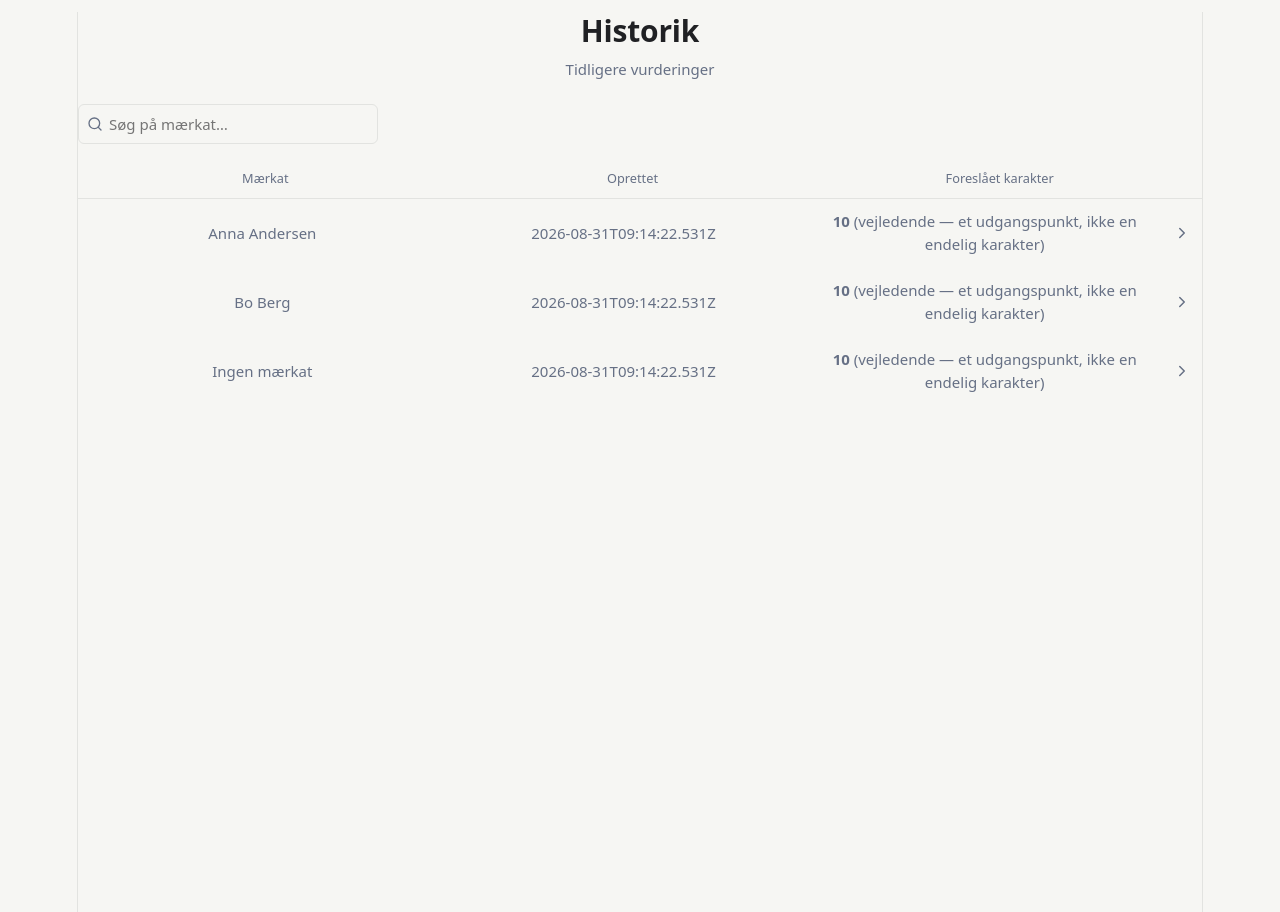
HistoryPage › search by Label › excludes rows with no saved Label when a search term is typed
Expected: the number of list items is 3, [78,199,1202,268]; [78,268,1202,337]; [78,337,1202,406]
In the search field: x=228, y=124 [78,104,378,144], type "b"
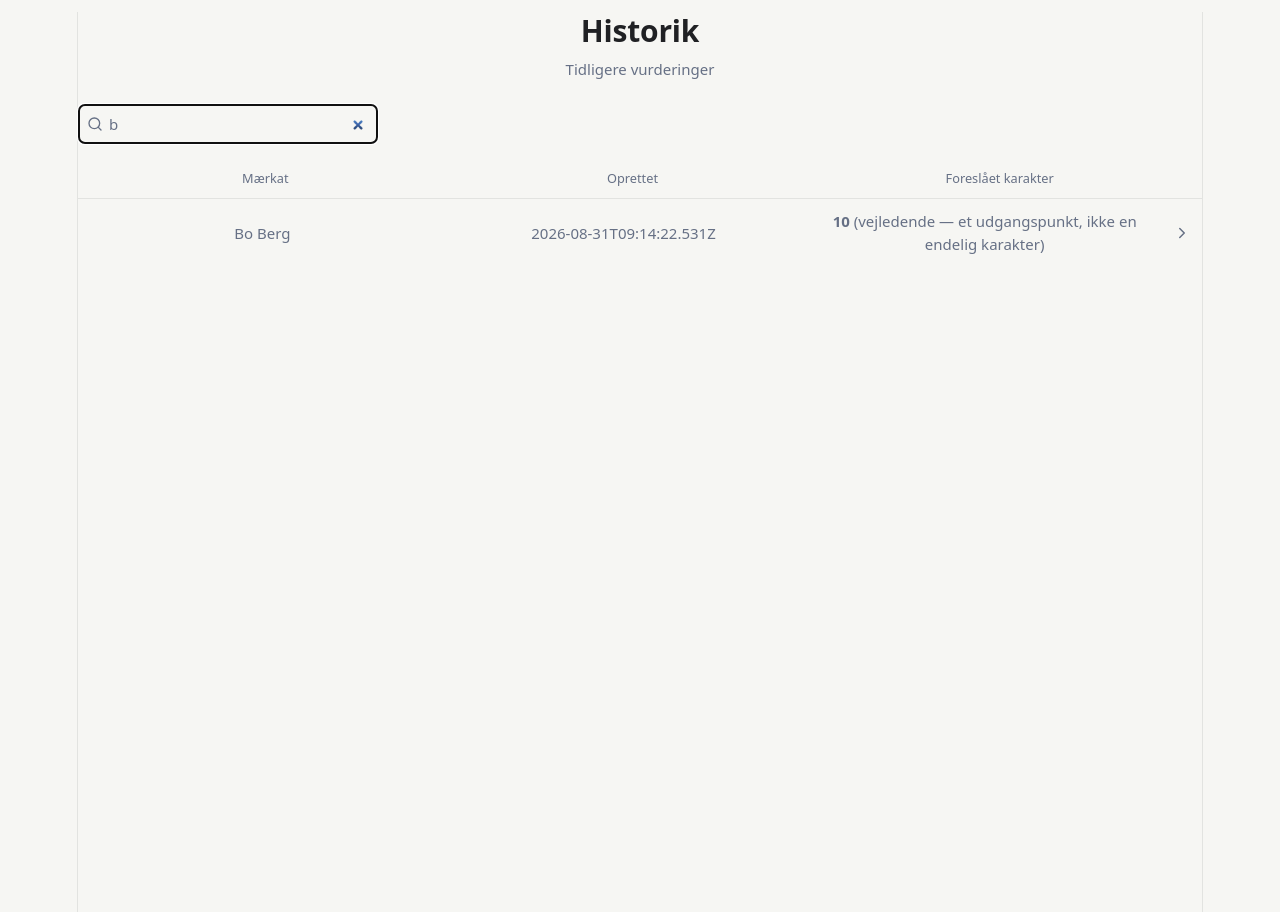
Expected: the list item shows "Bo Berg", [78,199,1202,268]
Now the number of list items is 1, box [78,199,1202,268]
